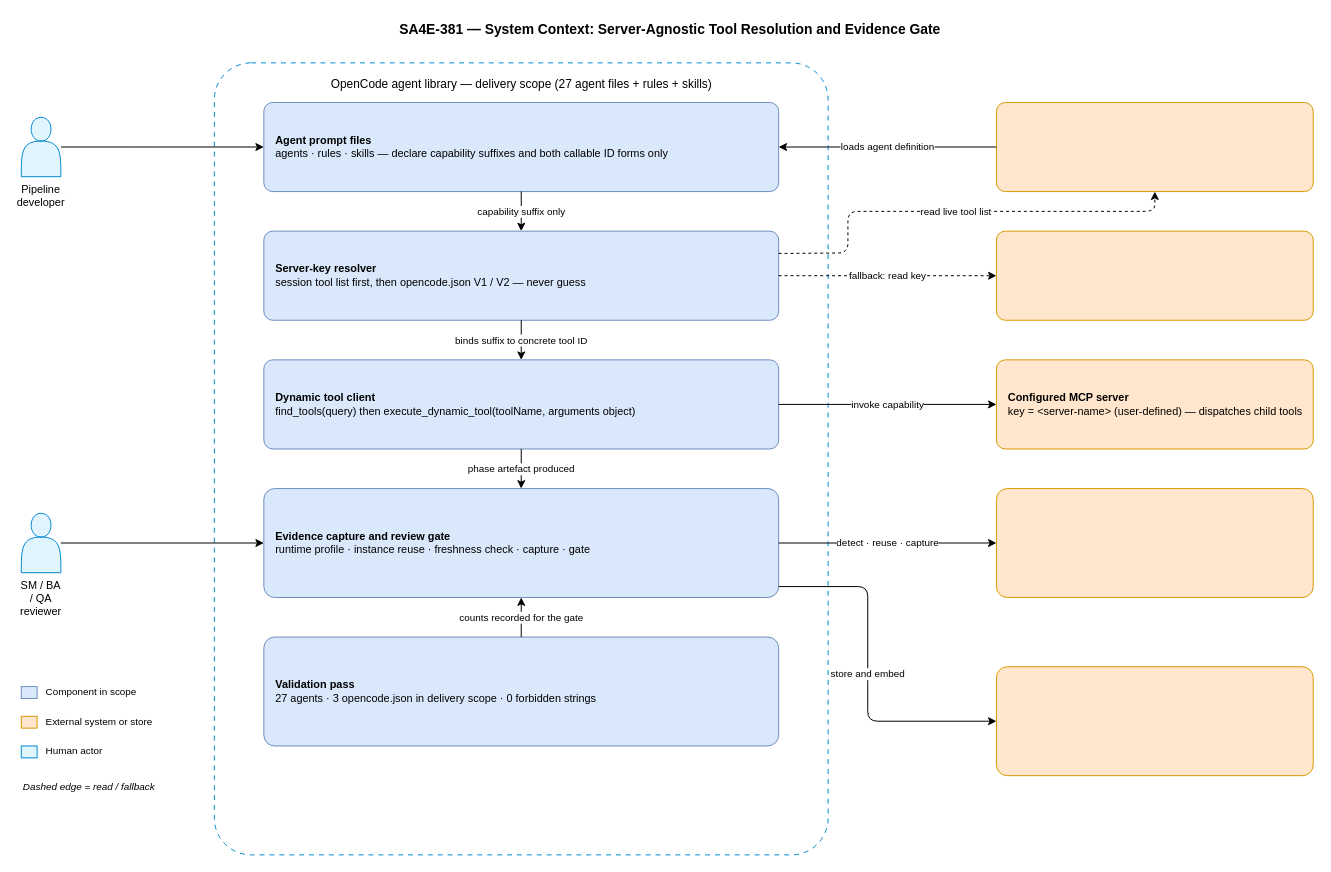
The diagram is 1331 pixels wide and 872 high, and some of its shapes have lost their labels. The centre of each missing label's shape, as x and y in pixels:
"Evidence store documents/{TICKET}/diagrams/{kind}-{screen}.png" goes at point (1154, 721).
"OpenCode runtime exposes live tool list, task, skill" goes at point (1154, 146).
"opencode.json V1 mcp.<server-name> / V2 mcp.servers.<server-name>" goes at point (1154, 275).
"Running build instance app · MCP server · CLI — the only valid evidence source" goes at point (1154, 542).
